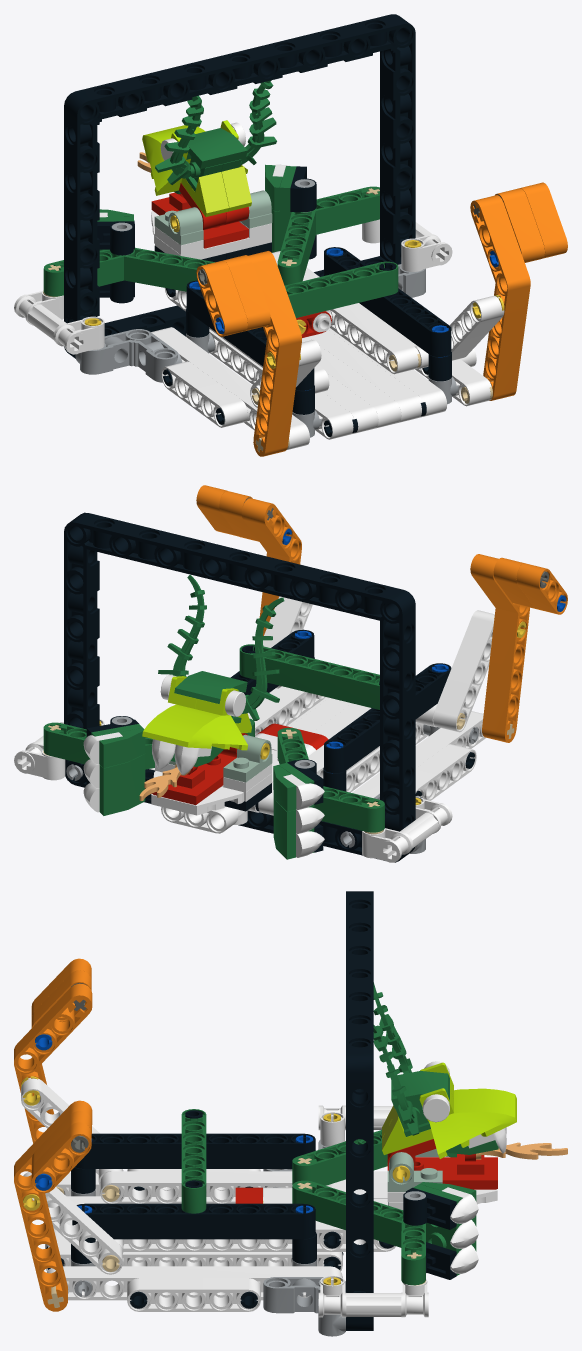
The picture shows the model from 3 angles, top to bottom: view 1: azimuth 30°, elevation 25°; view 2: azimuth 150°, elevation 25°; view 3: azimuth 270°, elevation 25°; orthographic projection. The views are drawn at different scales.
Visible parts, largest first — view 1: Inner-Node-drago_dot_io-35.001, Inner-Node-drago_dot_io-60.001, Inner-Node-drago_dot_io-59.001, Inner-Node-drago_dot_io-73.001, Inner-Node-drago_dot_io-74.001, Inner-Node-drago_dot_io-42.001, Inner-Node-drago_dot_io-39.001, Inner-Node-drago_dot_io-52.001, Inner-Node-drago_dot_io-24.001, Inner-Node-drago_dot_io-37.001, Inner-Node-drago_dot_io-22.001, Inner-Node-drago_dot_io-18.001 (+32 smaller); view 2: Inner-Node-drago_dot_io-35.001, Inner-Node-drago_dot_io-59.001, Inner-Node-drago_dot_io-42.001, Inner-Node-drago_dot_io-57.001, Inner-Node-drago_dot_io-38.001, Inner-Node-drago_dot_io-111.001, Inner-Node-drago_dot_io-74.001, Inner-Node-drago_dot_io-37.001, Inner-Node-drago_dot_io-60.001, Inner-Node-drago_dot_io-94.001, Inner-Node-drago_dot_io-22.001, Inner-Node-drago_dot_io-43.001 (+34 smaller); view 3: Inner-Node-drago_dot_io-35.001, Inner-Node-drago_dot_io-39.001, Inner-Node-drago_dot_io-38.001, Inner-Node-drago_dot_io-15.001, Inner-Node-drago_dot_io-51.001, Inner-Node-drago_dot_io-73.001, Inner-Node-drago_dot_io-60.001, Inner-Node-drago_dot_io-21.001, Inner-Node-drago_dot_io-111.001, Inner-Node-drago_dot_io-59.001, Inner-Node-drago_dot_io-36.001, Inner-Node-drago_dot_io-52.001 (+29 smaller).
Boxes of the visible parts, bbox=[...] form: Inner-Node-drago_dot_io-35.001: bbox=[64, 14, 415, 358]; Inner-Node-drago_dot_io-60.001: bbox=[470, 195, 530, 400]; Inner-Node-drago_dot_io-59.001: bbox=[248, 251, 301, 456]; Inner-Node-drago_dot_io-73.001: bbox=[277, 186, 379, 285]; Inner-Node-drago_dot_io-74.001: bbox=[43, 247, 214, 296]; Inner-Node-drago_dot_io-42.001: bbox=[285, 261, 398, 317]; Inner-Node-drago_dot_io-39.001: bbox=[324, 247, 451, 356]; Inner-Node-drago_dot_io-52.001: bbox=[272, 251, 419, 374]; Inner-Node-drago_dot_io-24.001: bbox=[75, 329, 182, 382]; Inner-Node-drago_dot_io-37.001: bbox=[14, 291, 104, 354]; Inner-Node-drago_dot_io-22.001: bbox=[161, 361, 247, 427]; Inner-Node-drago_dot_io-18.001: bbox=[151, 327, 309, 450]; Inner-Node-drago_dot_io-35.001: bbox=[64, 512, 415, 862]; Inner-Node-drago_dot_io-59.001: bbox=[470, 554, 529, 742]; Inner-Node-drago_dot_io-42.001: bbox=[239, 644, 379, 709]; Inner-Node-drago_dot_io-57.001: bbox=[433, 610, 494, 732]; Inner-Node-drago_dot_io-38.001: bbox=[324, 663, 451, 773]; Inner-Node-drago_dot_io-111.001: bbox=[142, 704, 247, 750]; Inner-Node-drago_dot_io-74.001: bbox=[277, 727, 384, 832]; Inner-Node-drago_dot_io-37.001: bbox=[362, 796, 452, 862]; Inner-Node-drago_dot_io-60.001: bbox=[241, 498, 301, 635]; Inner-Node-drago_dot_io-94.001: bbox=[99, 754, 145, 815]; Inner-Node-drago_dot_io-22.001: bbox=[415, 744, 476, 800]; Inner-Node-drago_dot_io-43.001: bbox=[161, 733, 315, 833]; Inner-Node-drago_dot_io-35.001: bbox=[346, 891, 373, 1330]; Inner-Node-drago_dot_io-39.001: bbox=[72, 1203, 315, 1239]; Inner-Node-drago_dot_io-38.001: bbox=[75, 1133, 315, 1168]; Inner-Node-drago_dot_io-15.001: bbox=[47, 1266, 342, 1300]; Inner-Node-drago_dot_io-51.001: bbox=[100, 1171, 387, 1203]; Inner-Node-drago_dot_io-73.001: bbox=[292, 1180, 425, 1285]; Inner-Node-drago_dot_io-60.001: bbox=[14, 1100, 92, 1311]; Inner-Node-drago_dot_io-21.001: bbox=[127, 1278, 260, 1311]; Inner-Node-drago_dot_io-111.001: bbox=[429, 1088, 516, 1158]; Inner-Node-drago_dot_io-59.001: bbox=[14, 983, 92, 1143]; Inner-Node-drago_dot_io-36.001: bbox=[318, 1275, 428, 1317]; Inner-Node-drago_dot_io-52.001: bbox=[123, 1221, 395, 1251].
Size of the model in its own units: 13.51 by 8.79 by 16.02.
